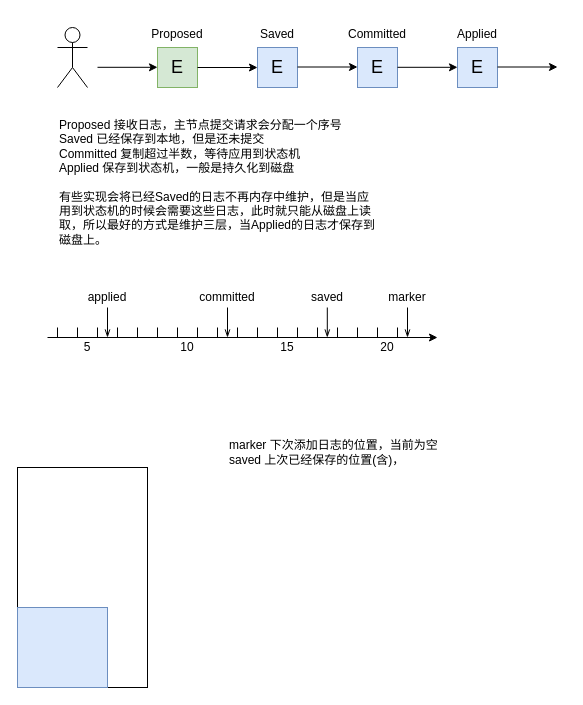
The diagram is 583 pixels wide and 705 high, and some of its shapes have lost their labels. The shapes that lost their labels are listed below. From the top down, each one's centre as x and y in pixels, then its label:
At [72,57]: "Client".
At [62,647]: "term vote(?) commitIndex logEntries".
